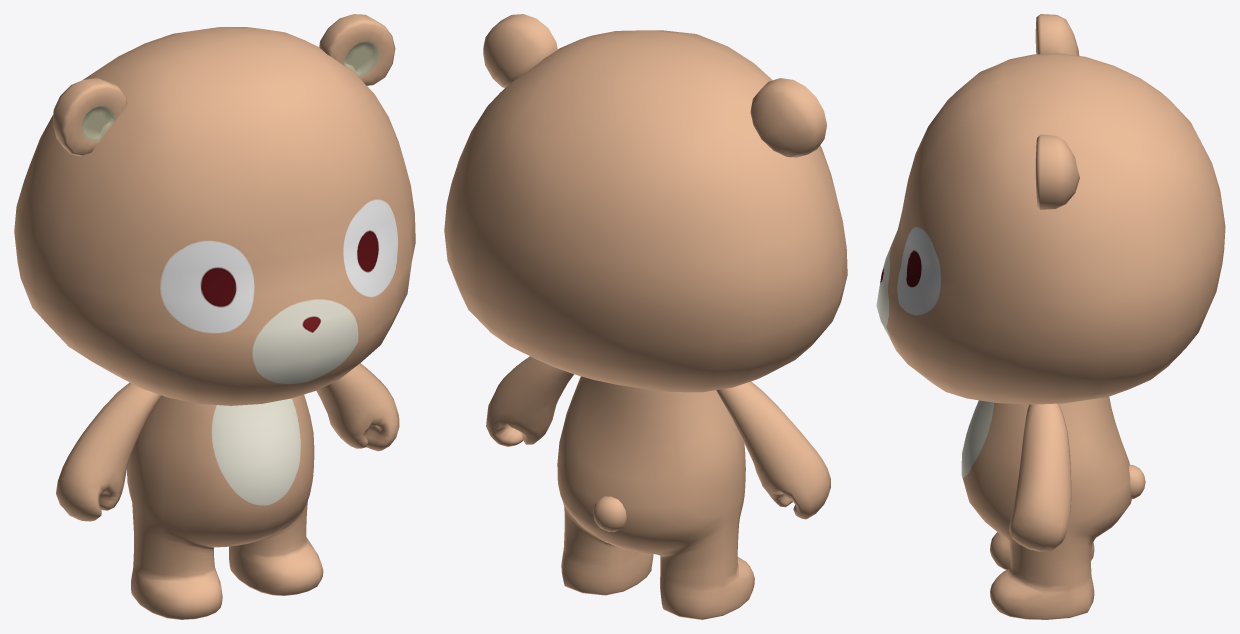
The model's file is xiong3.DAE.
3 renders of one model, left to right at view 1: azimuth 30°, elevation 25°; view 2: azimuth 150°, elevation 25°; view 3: azimuth 270°, elevation 25°, orthographic. The views are drawn at different scales.
Visible parts, largest first — view 1: Bear_rig_2_2_model_Bear_face1, Bear_rig_2_2_model_Bear_body; view 2: Bear_rig_2_2_model_Bear_face1, Bear_rig_2_2_model_Bear_body; view 3: Bear_rig_2_2_model_Bear_face1, Bear_rig_2_2_model_Bear_body.
Part boxes in pixels (<box>): Bear_rig_2_2_model_Bear_face1: <box>14,14,415,405</box>; Bear_rig_2_2_model_Bear_body: <box>56,363,399,619</box>; Bear_rig_2_2_model_Bear_face1: <box>444,14,847,392</box>; Bear_rig_2_2_model_Bear_body: <box>486,356,830,619</box>; Bear_rig_2_2_model_Bear_face1: <box>876,14,1225,404</box>; Bear_rig_2_2_model_Bear_body: <box>961,396,1145,619</box>.
Bounding box in the file's own units: 8.69 × 7.75 × 12.41.
